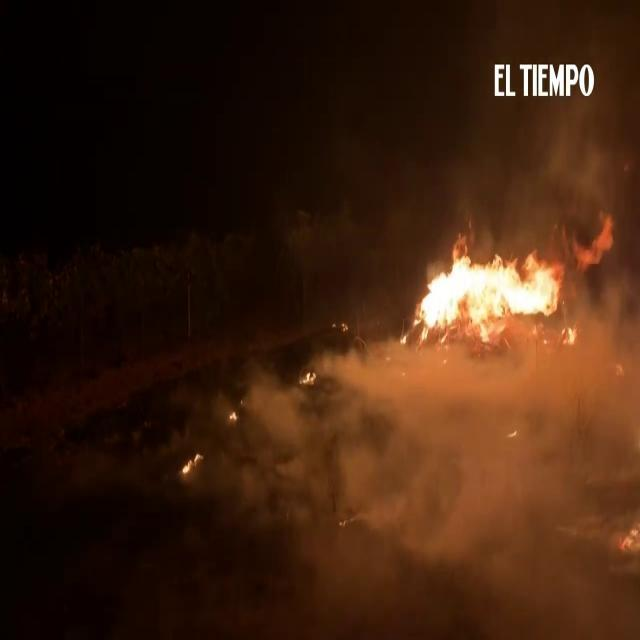Fire: (407, 212, 615, 346), (618, 520, 638, 554), (182, 450, 205, 474), (298, 370, 318, 385), (340, 318, 350, 332), (228, 409, 236, 422), (400, 334, 407, 346)
